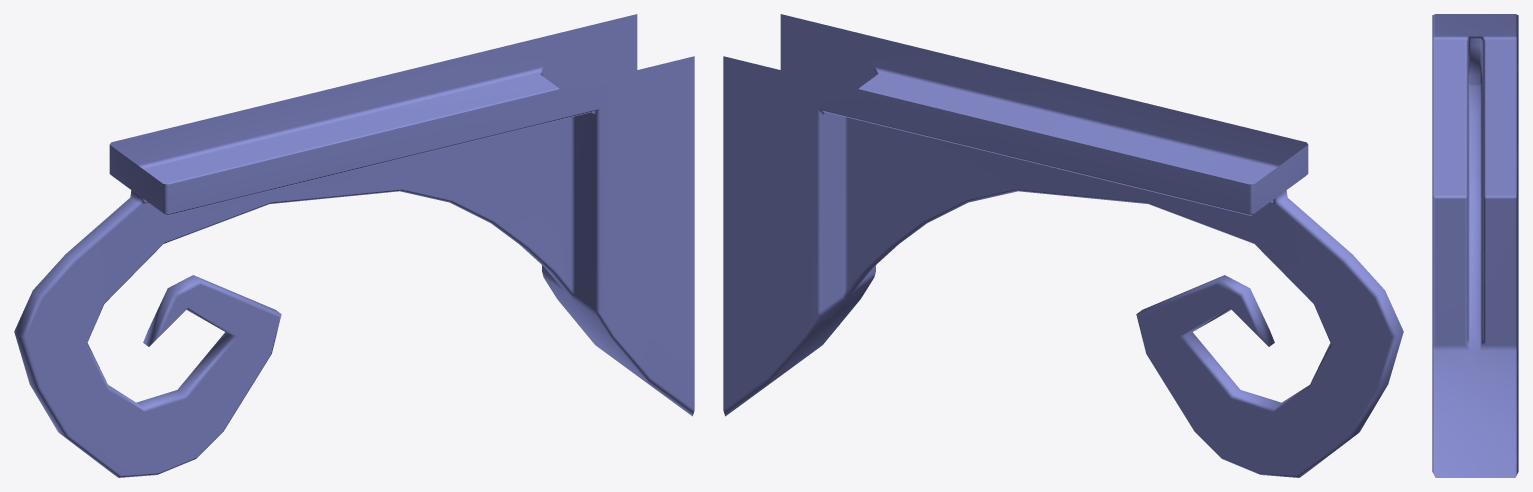
The model's file is HalloweenRoomA_Hook.fbx.
3 renders of one model, left to right at view 1: azimuth 30°, elevation 25°; view 2: azimuth 150°, elevation 25°; view 3: azimuth 270°, elevation 25°, orthographic. The views are drawn at different scales.
Parts seen in each view (by area): view 1: HalloweenRoomA_Hook; view 2: HalloweenRoomA_Hook; view 3: HalloweenRoomA_Hook.
Part boxes in pixels (<box>): HalloweenRoomA_Hook: <box>14,14,694,477</box>; HalloweenRoomA_Hook: <box>723,14,1403,477</box>; HalloweenRoomA_Hook: <box>1432,14,1518,477</box>.
Size of the model in its own units: 54.03 by 28.81 by 8.3.
